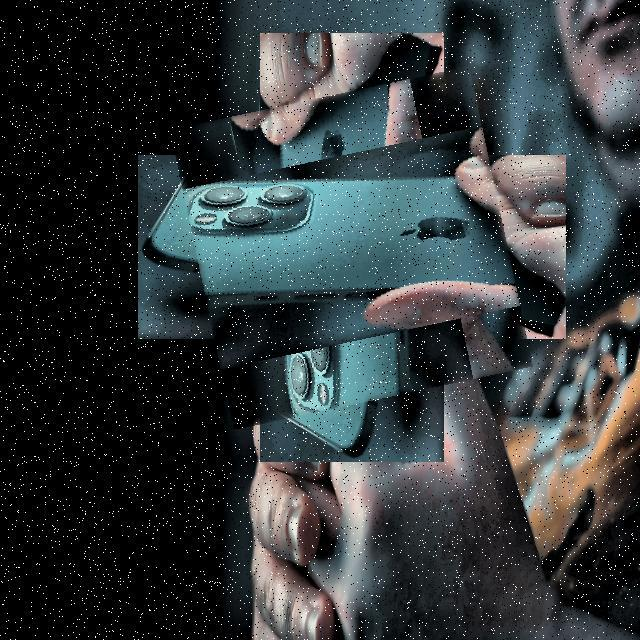Phone: (185, 80, 520, 415)
